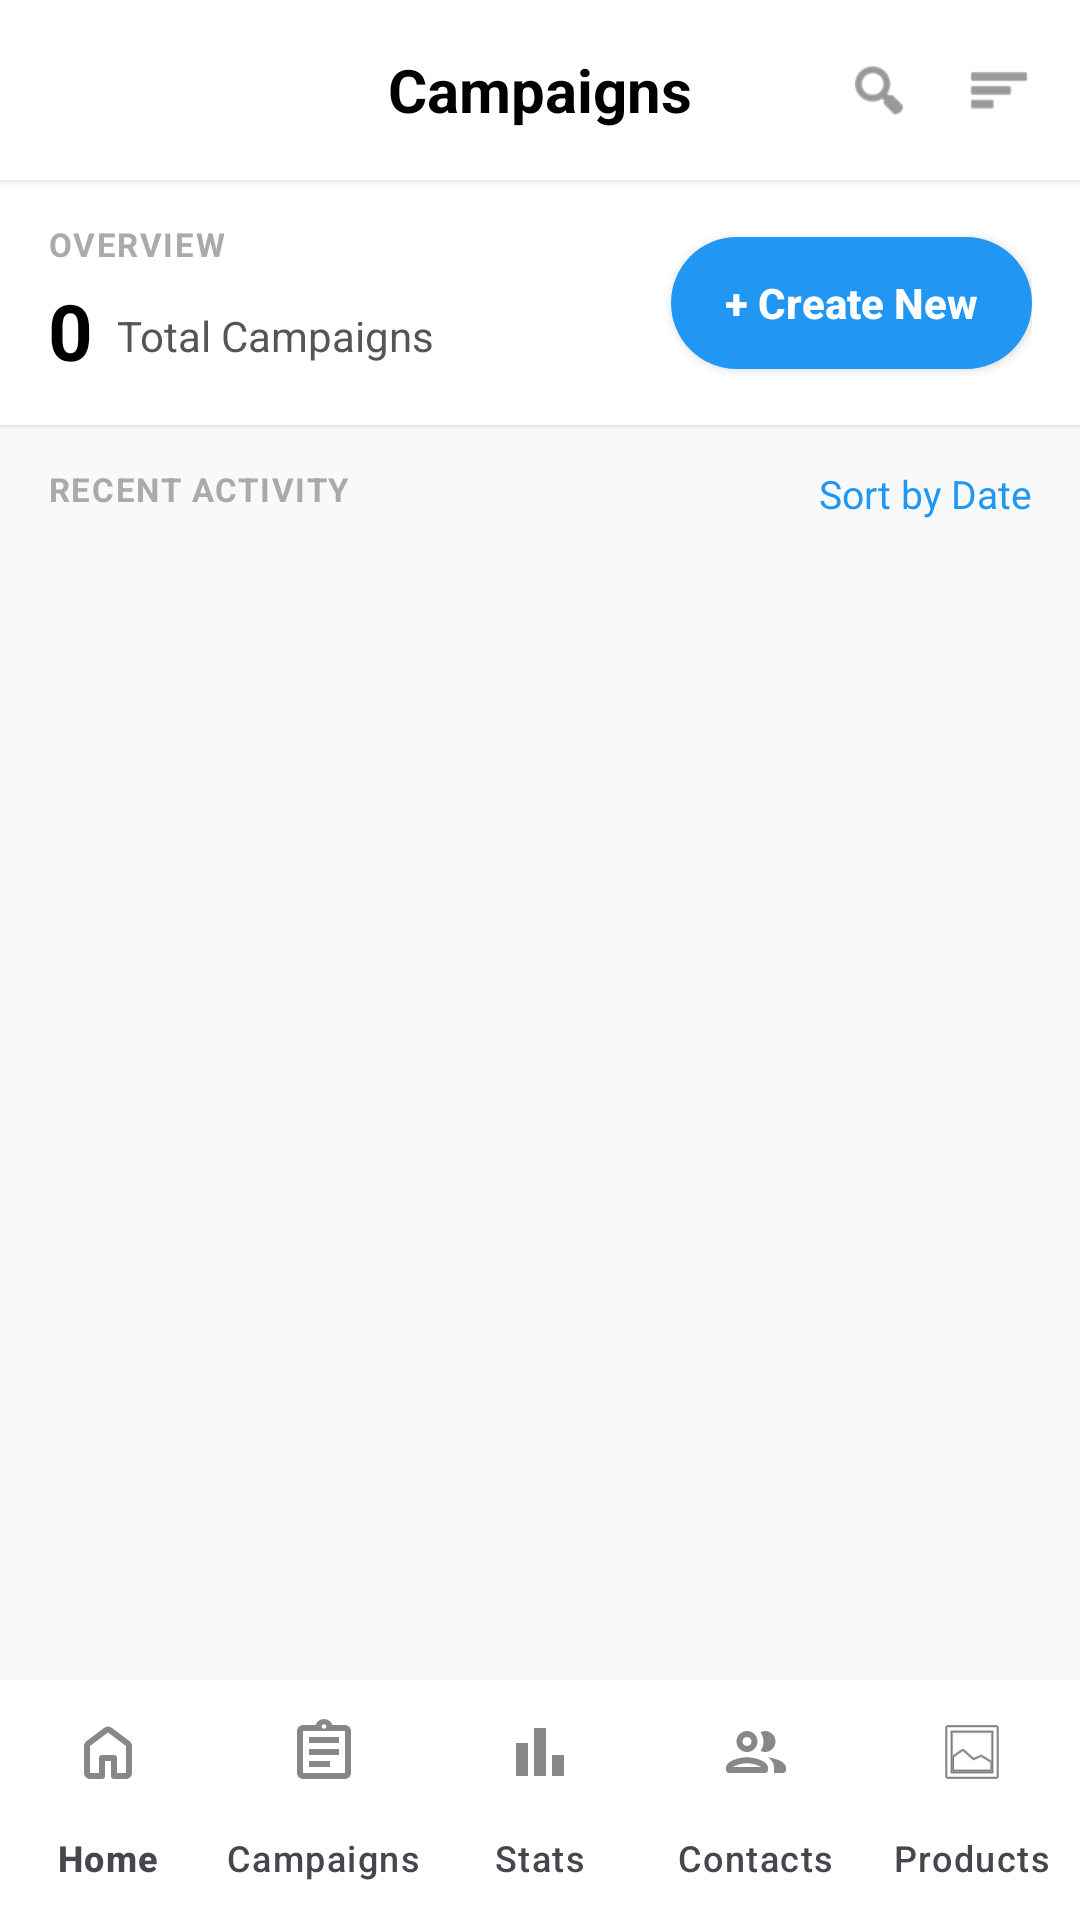

Named icons in this screenshot (1080×1920) and their centers, [x,y]:
search: [879,90]
sort by size: [999,90]
